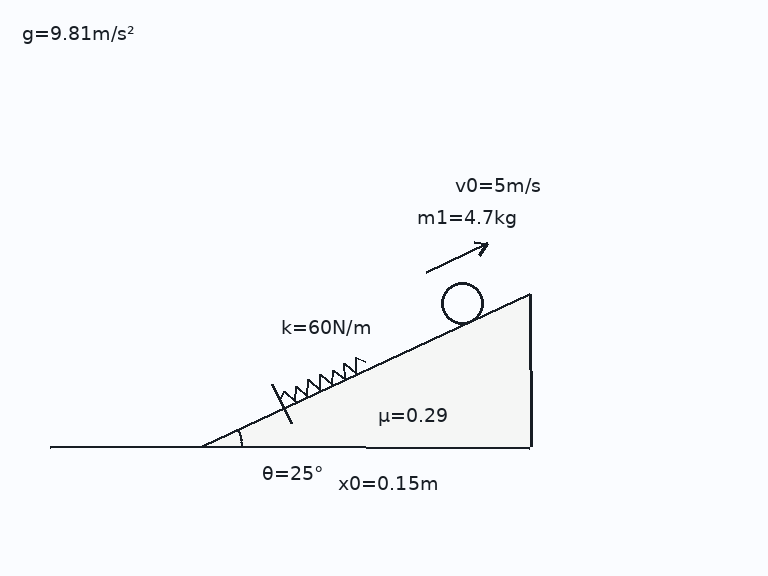ball: (439, 280, 485, 326)
ramp: (200, 292, 532, 449)
spring: (278, 355, 368, 403)
